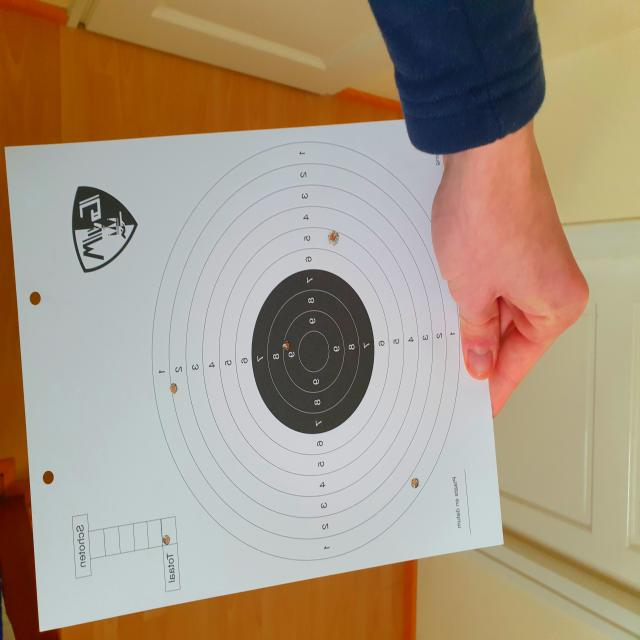0: (163, 534, 171, 546)
1: (411, 477, 419, 488)
2: (170, 382, 178, 395)
5: (328, 230, 340, 247)
9: (282, 339, 290, 351)
Target: (150, 139, 460, 561)
black_contour: (252, 269, 374, 434)
